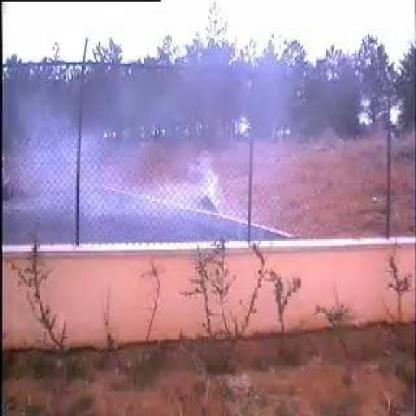-: (77, 67, 255, 245)
